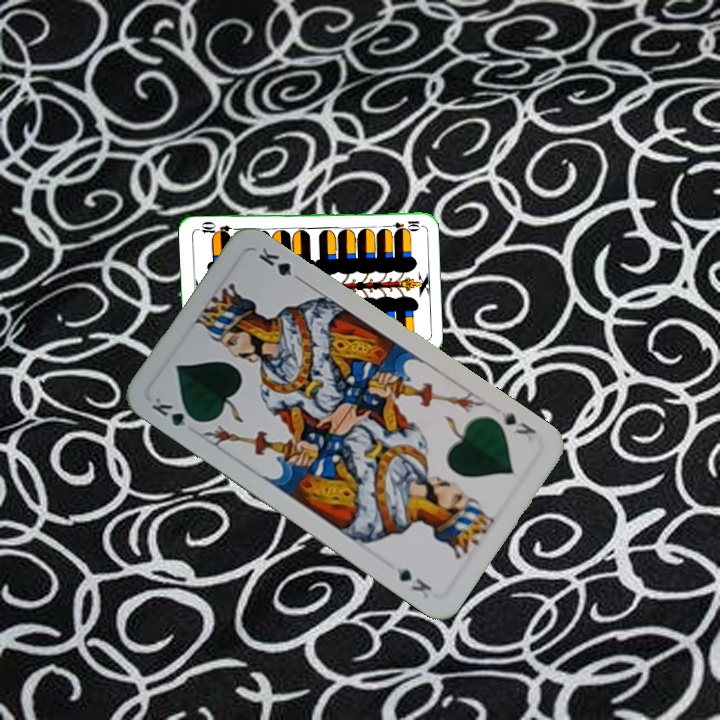E10: (382, 216, 422, 231)
GK: (147, 393, 203, 431), (495, 407, 539, 438)
